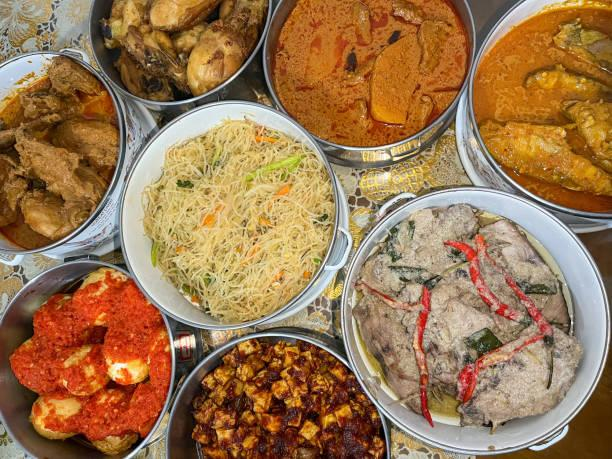Braised Crucian Carp: (340, 187, 603, 453), (119, 100, 346, 330), (458, 2, 611, 232), (264, 2, 473, 168), (0, 260, 176, 455), (1, 51, 149, 261), (165, 329, 379, 457), (89, 2, 268, 112)
